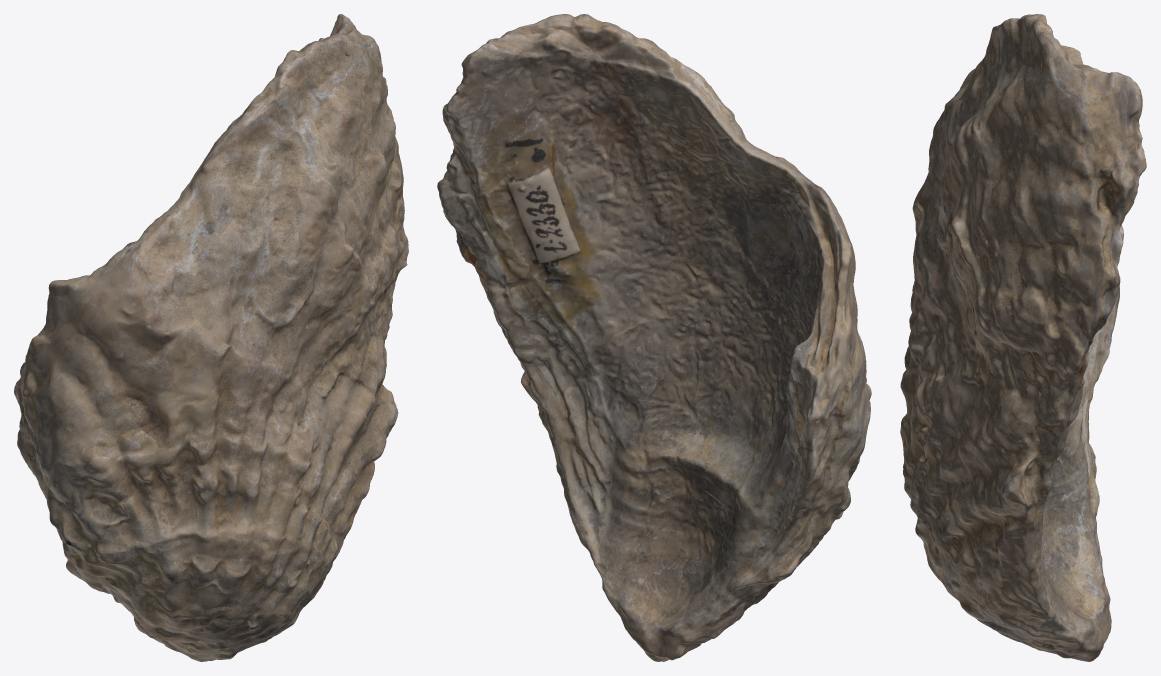
Rendered from EWS0016400.glb.
3 renders of one model, left to right at view 1: azimuth 30°, elevation 25°; view 2: azimuth 150°, elevation 25°; view 3: azimuth 270°, elevation 25°, orthographic. The views are drawn at different scales.
Visible parts, largest first — view 1: EWS0016400.001; view 2: EWS0016400.001; view 3: EWS0016400.001.
Boxes of the visible parts, x1,y1,x2,y2 form: EWS0016400.001: (14,14,408,661); EWS0016400.001: (437,14,871,661); EWS0016400.001: (900,14,1146,661).
Size of the model in its own units: 0.0478 by 0.0705 by 0.0227.
Materials: 1 (1 with a texture image).
